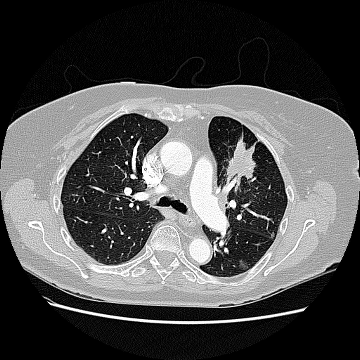nodule: (239, 261, 247, 269)
